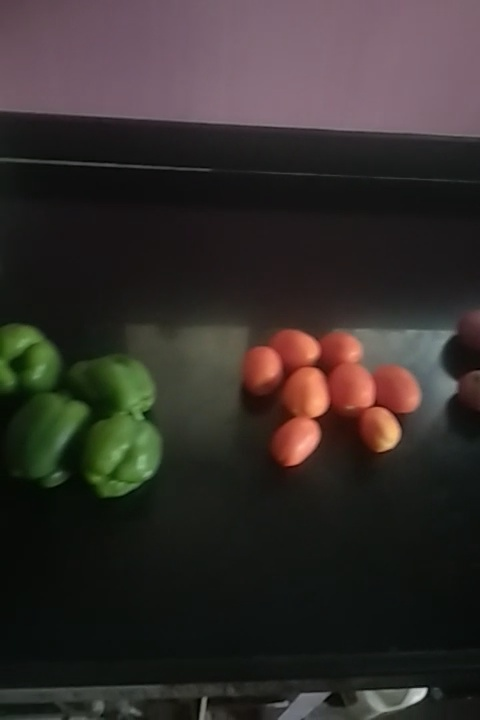capsicum: (76, 401, 150, 498), (63, 350, 163, 417), (16, 396, 79, 500), (1, 324, 54, 396)
tomato: (267, 416, 334, 474), (372, 363, 425, 420), (323, 359, 372, 419), (283, 366, 331, 417), (243, 345, 287, 398), (357, 409, 408, 452), (314, 327, 367, 366), (271, 329, 316, 367)
